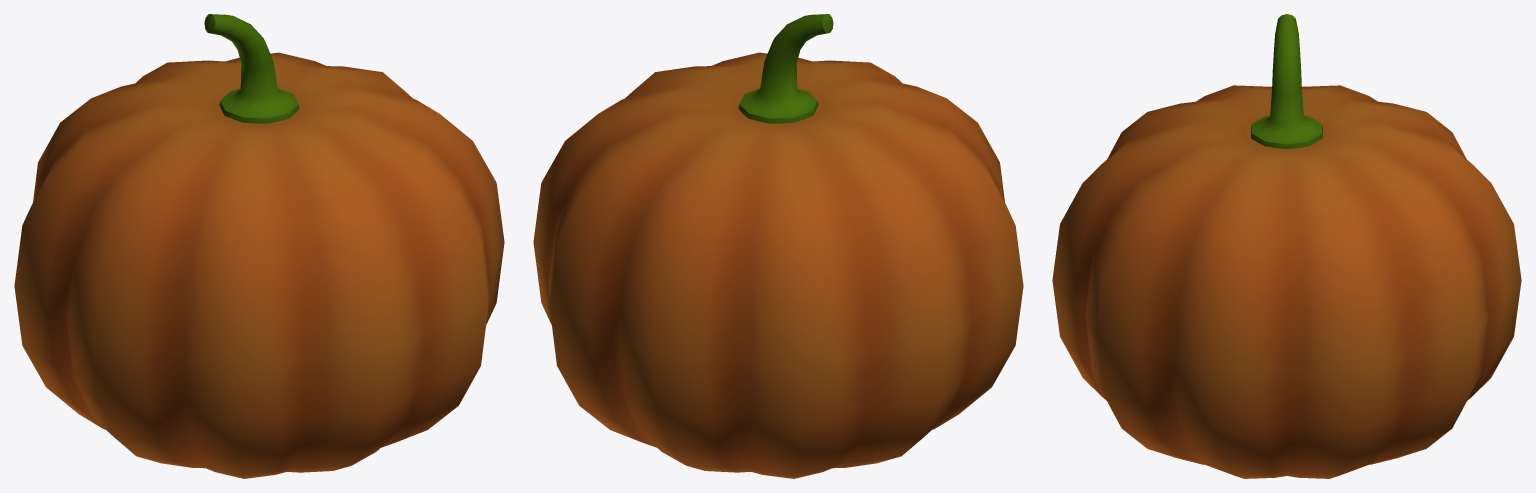
File: pumpkin.glb
The picture shows the model from 3 angles, left to right: view 1: azimuth 30°, elevation 25°; view 2: azimuth 150°, elevation 25°; view 3: azimuth 270°, elevation 25°; orthographic projection. The views are drawn at different scales.
Parts seen in each view (by area): view 1: geometry_0; view 2: geometry_0; view 3: geometry_0.
Part boxes in pixels (<box>): geometry_0: <box>14,14,504,478</box>; geometry_0: <box>533,14,1023,478</box>; geometry_0: <box>1052,14,1521,478</box>.
Size of the model in its own units: 0.4278 by 0.4178 by 0.4498.
Materials: 1 (1 with a texture image).
